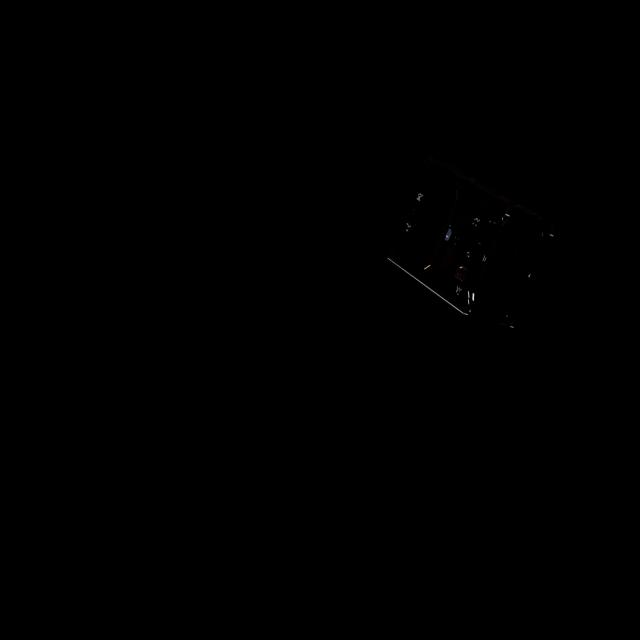satellite: (390, 169, 562, 322)
